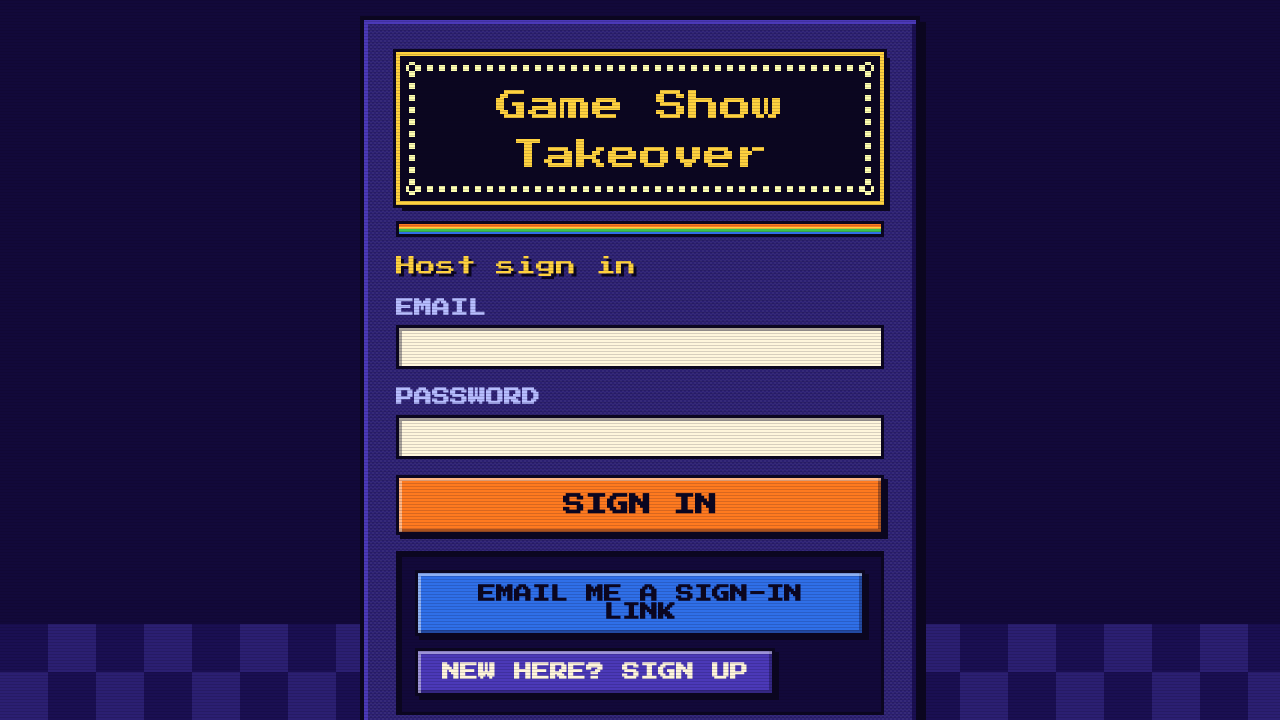
StageApp boot and auth gate › signs up a new host and lands on the event list
Expected: the field labelled "Email" is shown, [396, 325, 884, 369]
Click the button "New here? Sign up" at point(595, 672), box [415, 648, 775, 696]
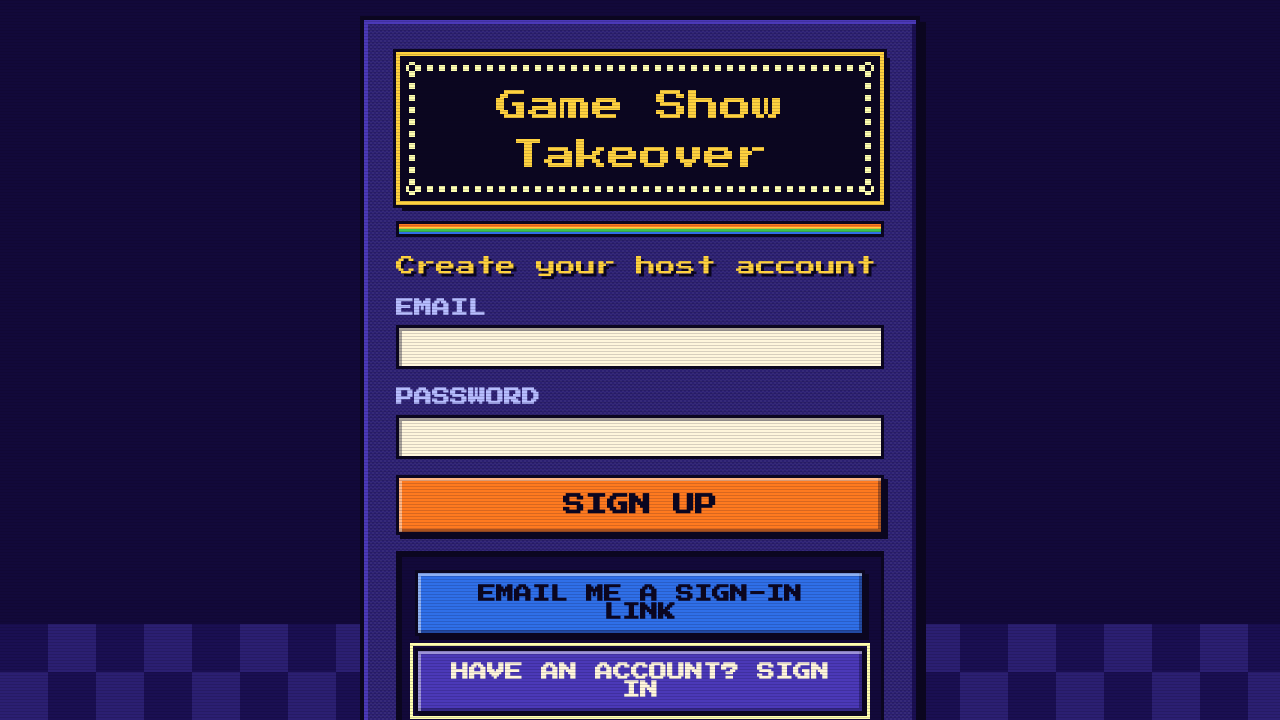
Result: the heading "Create your host account" is shown at [396, 253, 884, 280]
Type "host@example.com" into the field labelled "Email" at point(640, 347), box [396, 325, 884, 369]
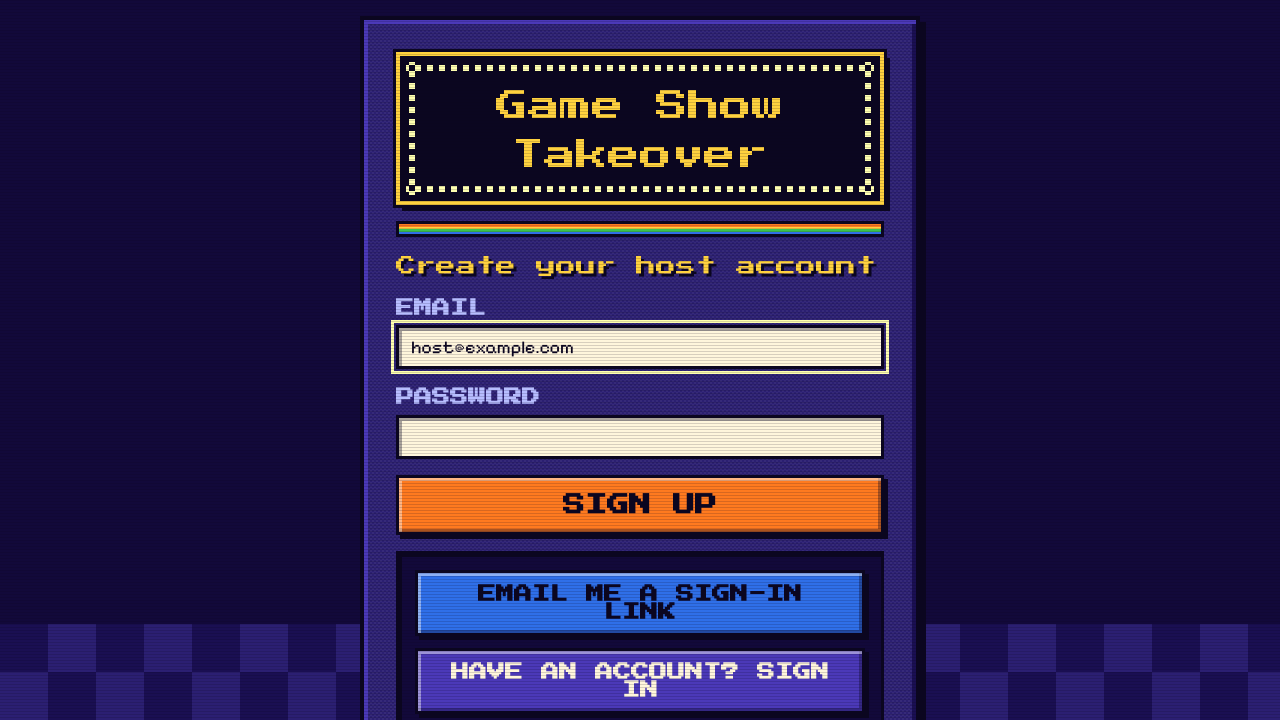
Type "secret-pass" into the password field labelled "Password" at point(640, 437), box [396, 415, 884, 459]
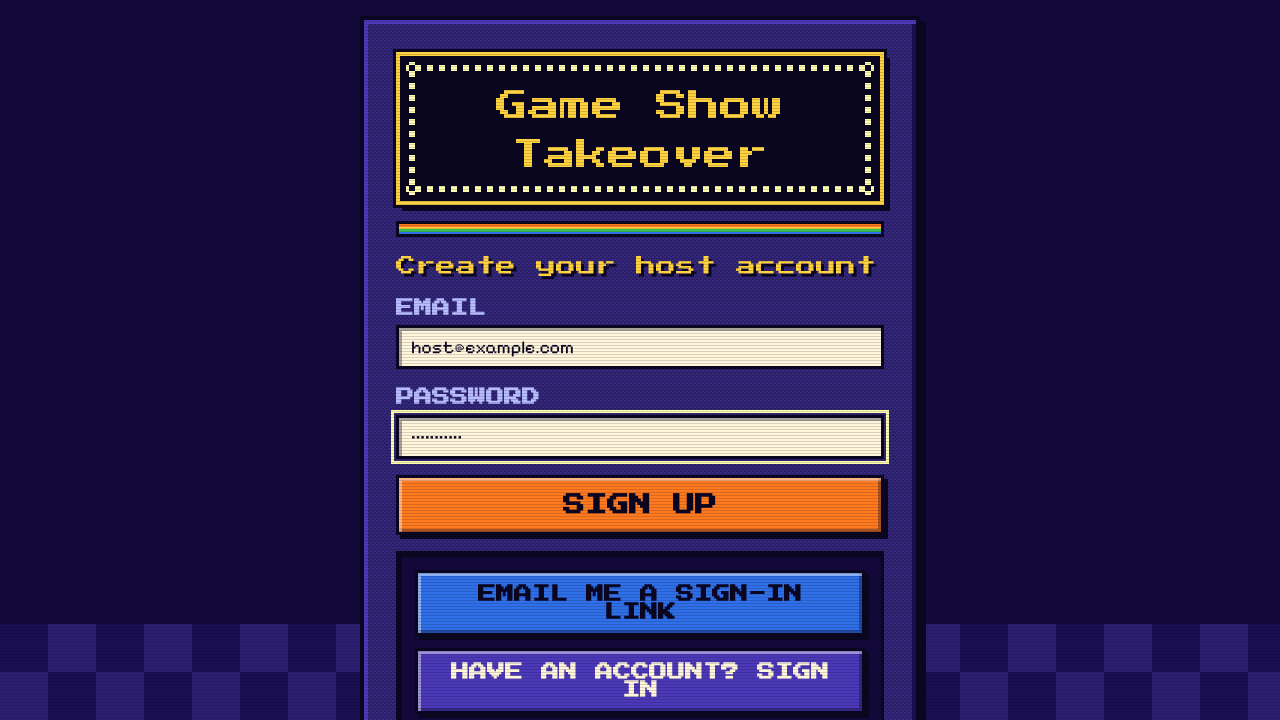
Click the button "Sign up" at point(640, 505), box [396, 475, 884, 535]
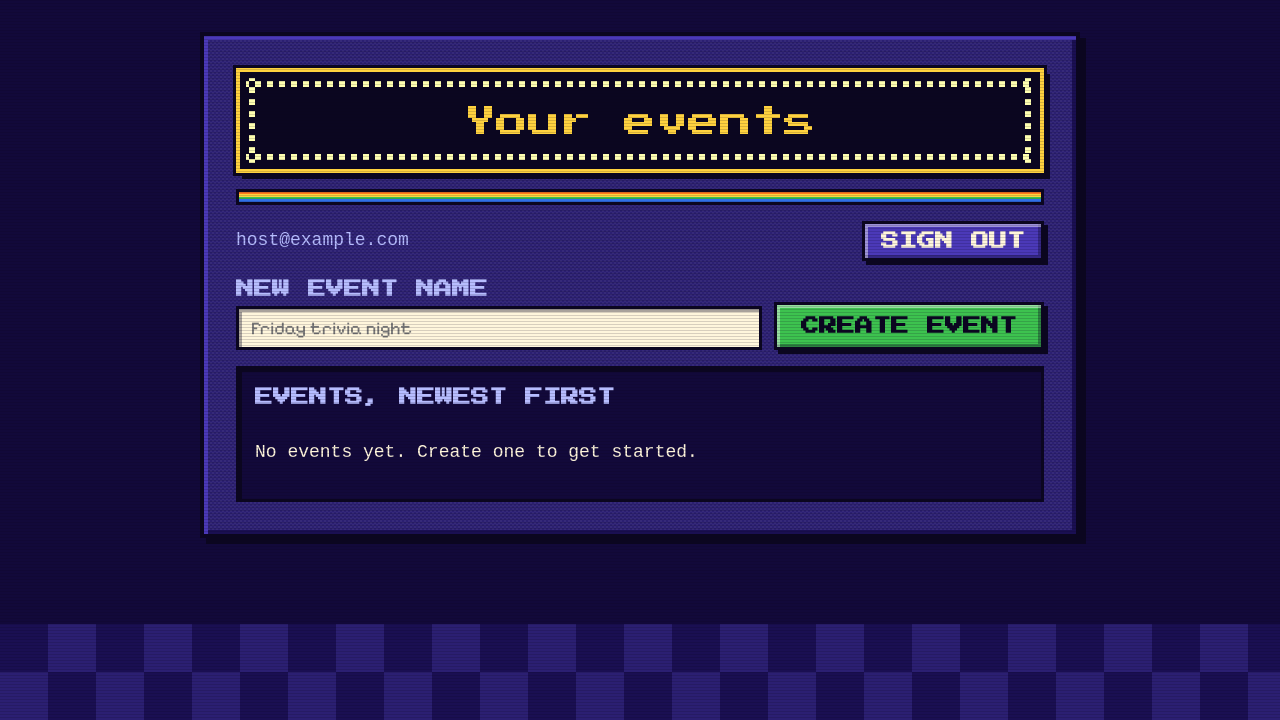
Result: the heading "Your events" is shown at [236, 68, 1044, 173]
Result: the text "host@example.com" is shown at [236, 228, 409, 253]
